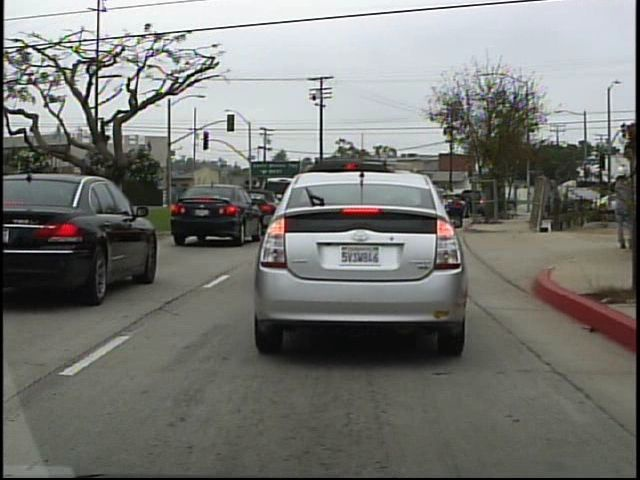person: (610, 158, 636, 256)
